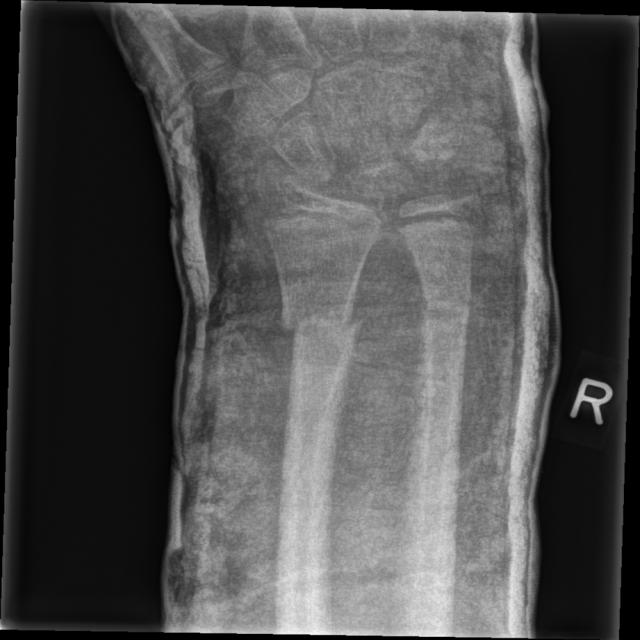radius fracture: (262, 254, 386, 415)
